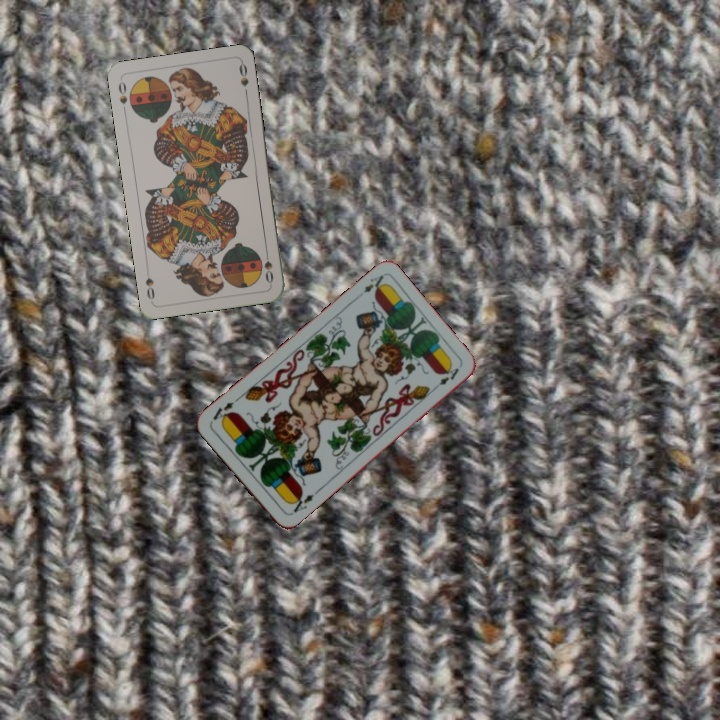EA: (352, 271, 388, 302), (286, 490, 317, 517)
SO: (260, 246, 276, 286), (114, 77, 130, 117)
